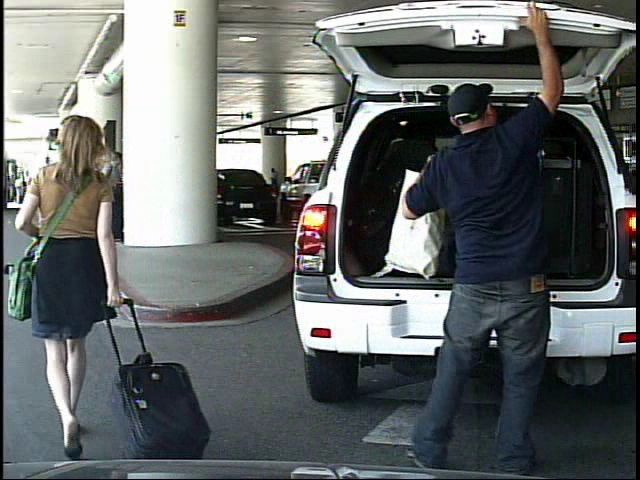person: (385, 2, 572, 480), (34, 106, 166, 443), (269, 165, 283, 200), (16, 173, 27, 204)
